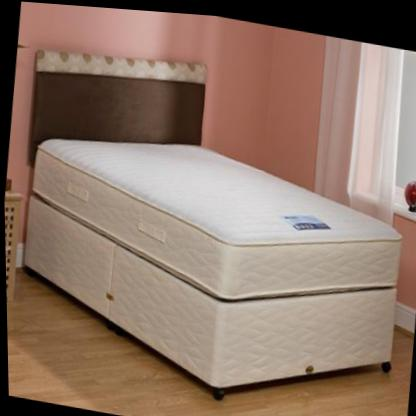Bed: (1, 37, 416, 416)
